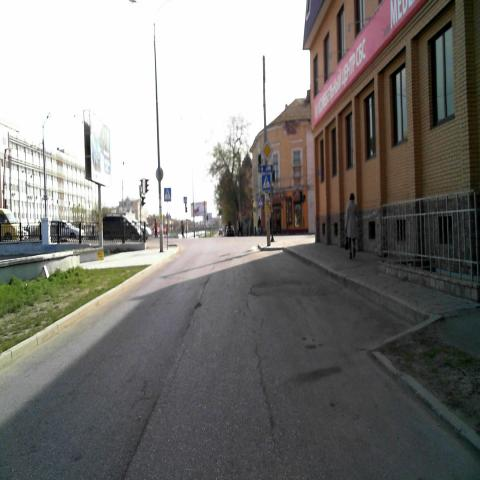6_15_1: (259, 164, 273, 174)
